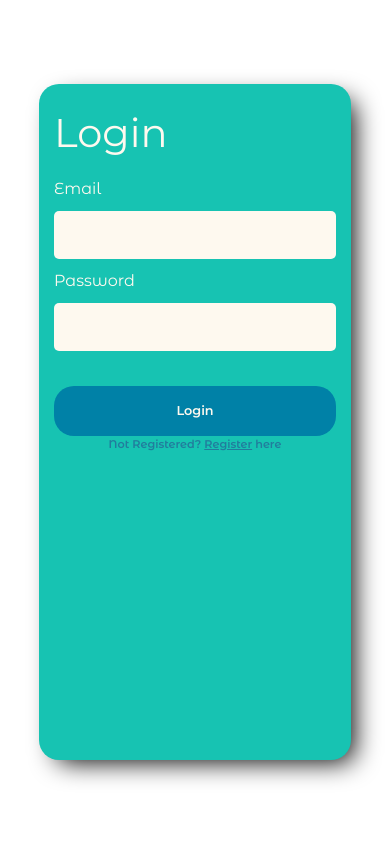
login component happy path › should render pick gender after login correctly
Step 1. Type "email@email.com" into the field labelled "Email" → coordinates (195, 235), box [54,211,336,259]
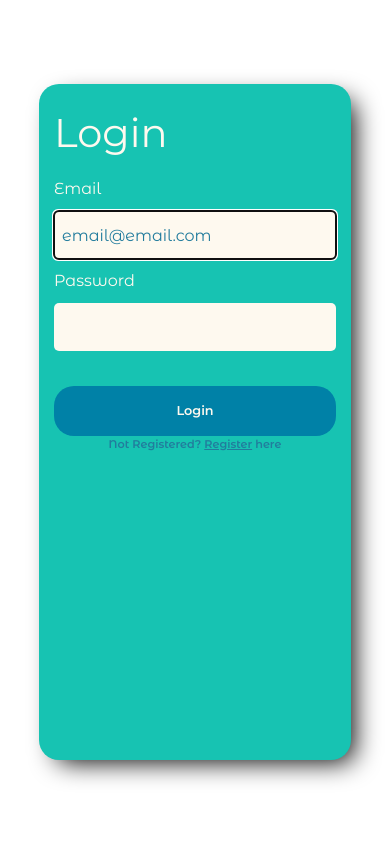
Step 2. Type "password" into the password field labelled "Password" → coordinates (195, 327), box [54,303,336,351]
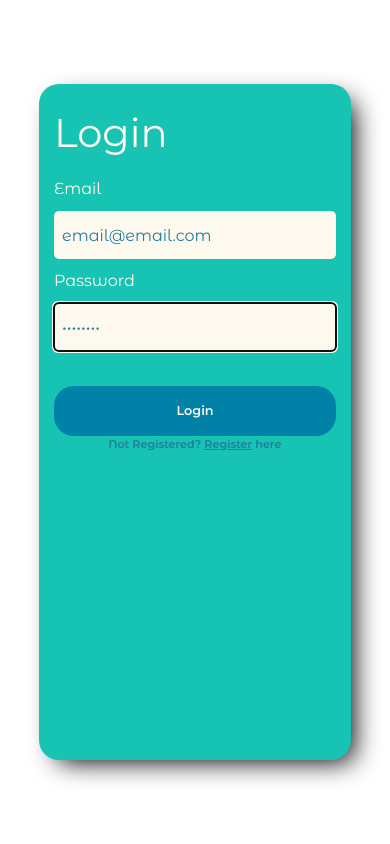
Step 3. Click the button with test id "login" → coordinates (195, 411), box [54,386,336,436]
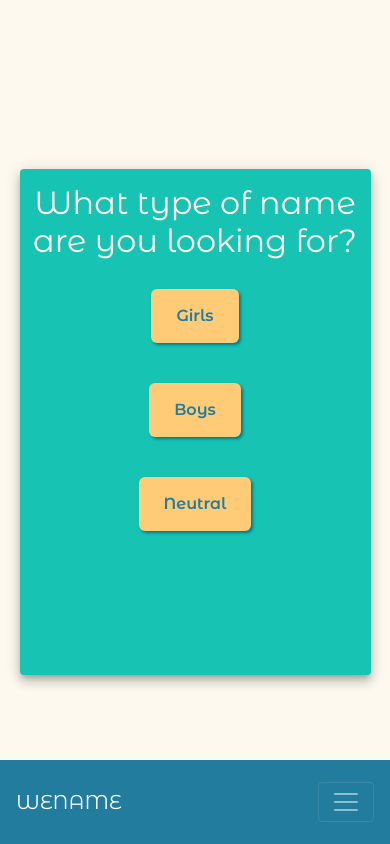
Result: the heading "What type of name are you looking for?" is shown at [20,184,370,261]
